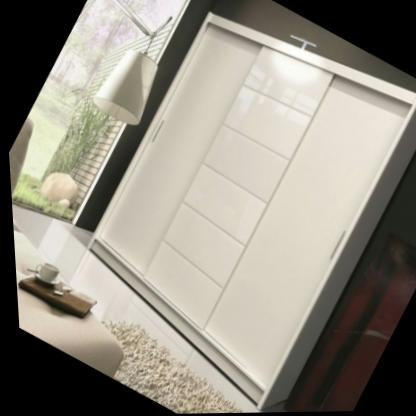Ceramic floor: (10, 205, 232, 402)
Closet: (85, 13, 416, 413)
